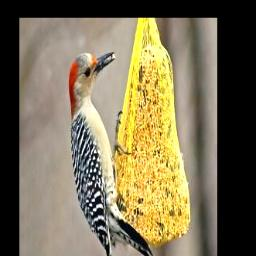Woodpecker: (56, 42, 160, 256)
